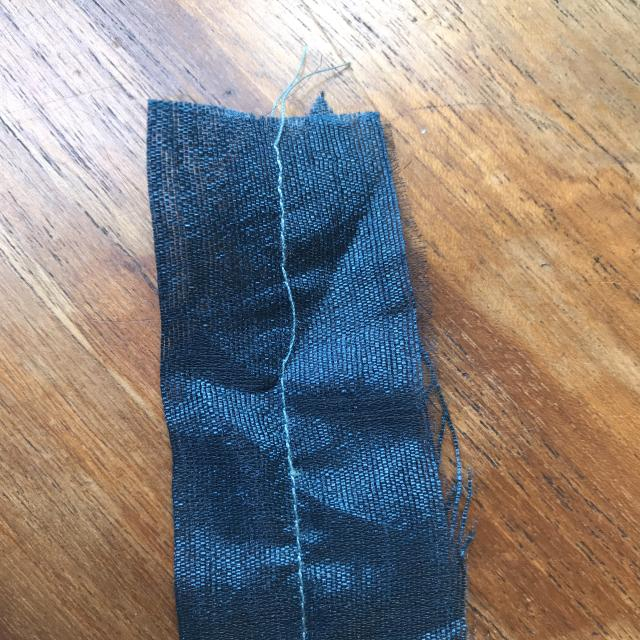skip: (244, 247, 332, 382)
